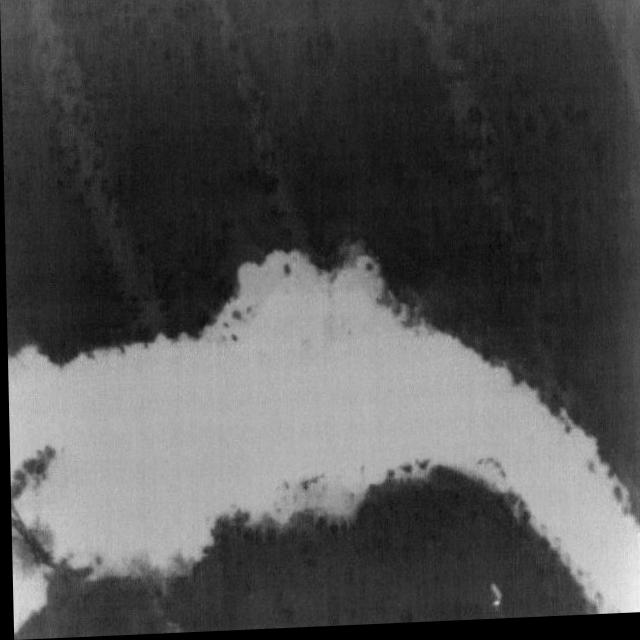deer: (488, 587, 500, 612)
